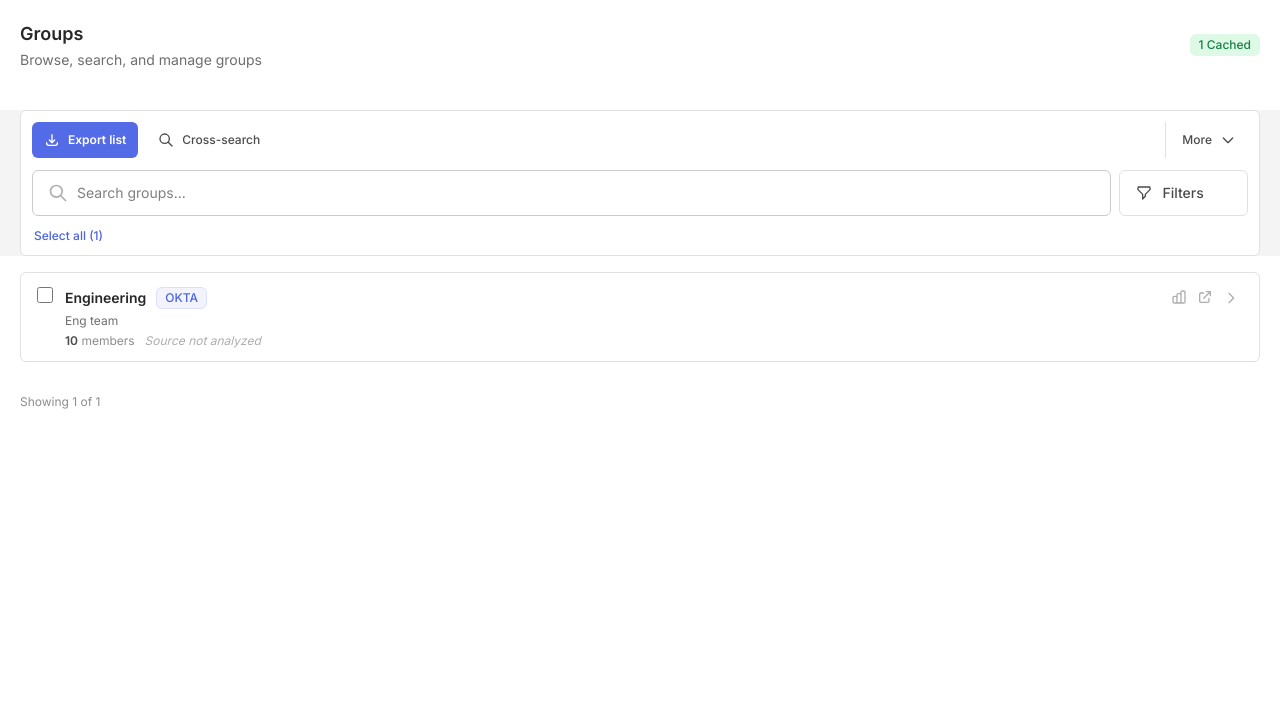
Test: GroupsTab sub-navigation › hides the list without unmounting it, so its state survives
What coordinates should you click on to do the following:
click the checkbox named "Select Engineering"
I would click on:
 (45, 295)
Its box is [37,287,53,303].
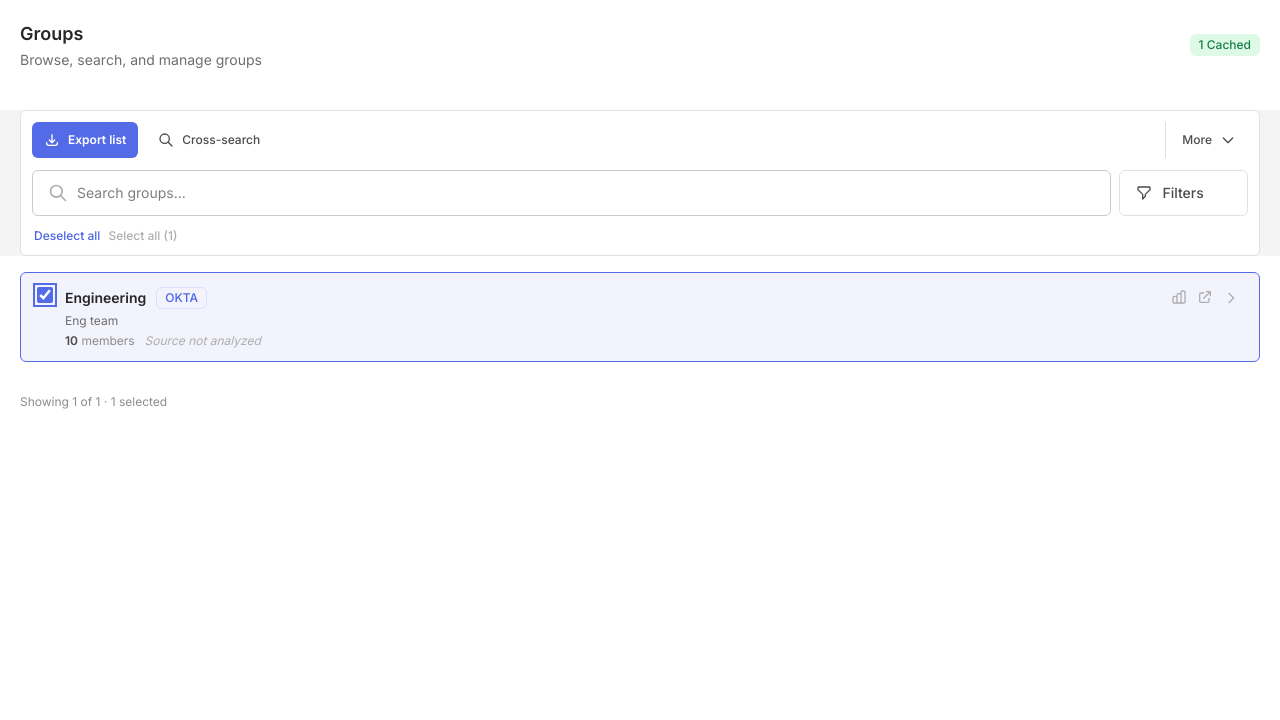
What coordinates should you click on to do the following:
click the button named "Expand Engineering"
I would click on:
 (1231, 298)
Its box is [1219,286,1243,310].
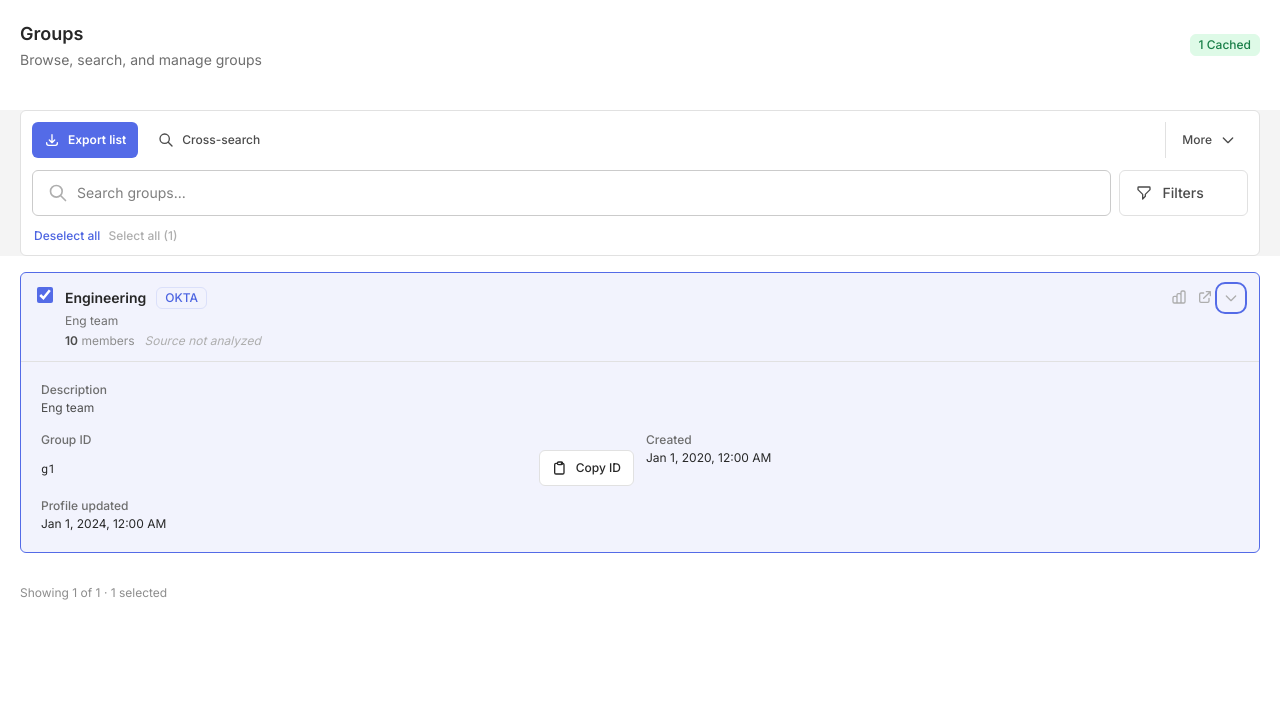
What coordinates should you click on to do the following:
click the button named "View group details"
I would click on:
 (640, 317)
Its box is [21,273,1259,361].
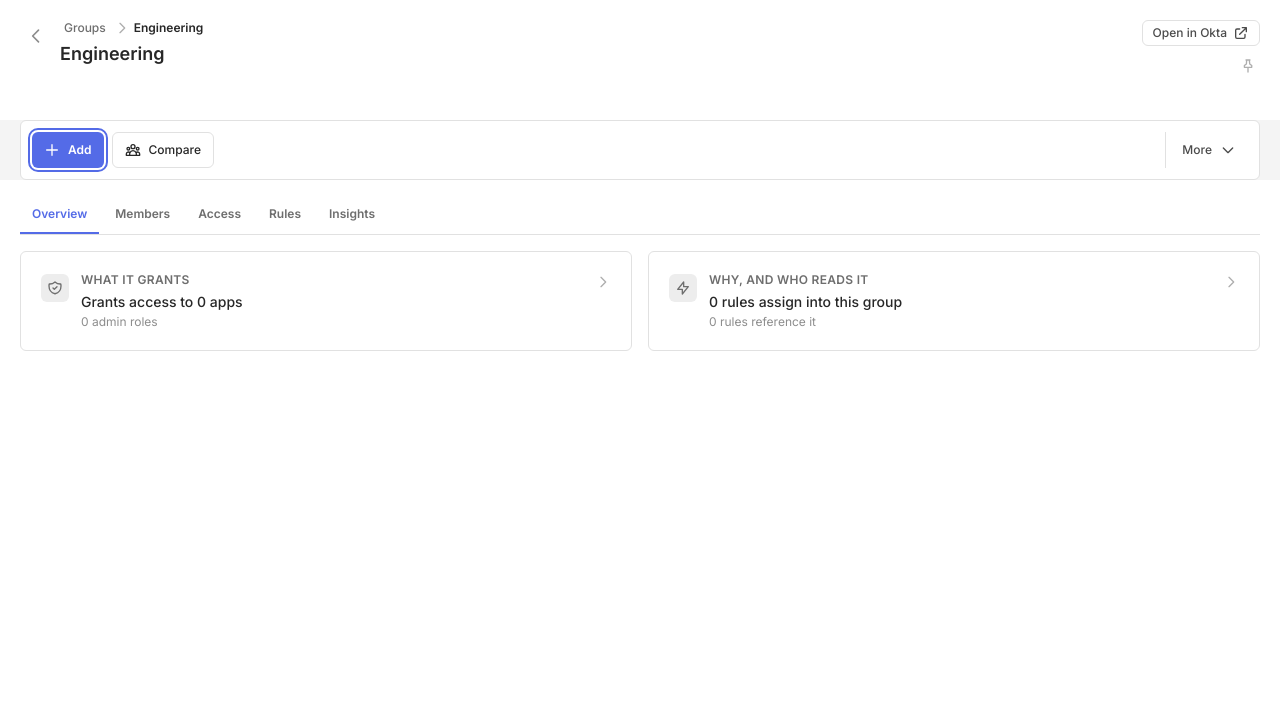
What coordinates should you click on to do the following:
click the button named "Back to groups"
I would click on:
 (36, 36)
Its box is [20,20,52,52].
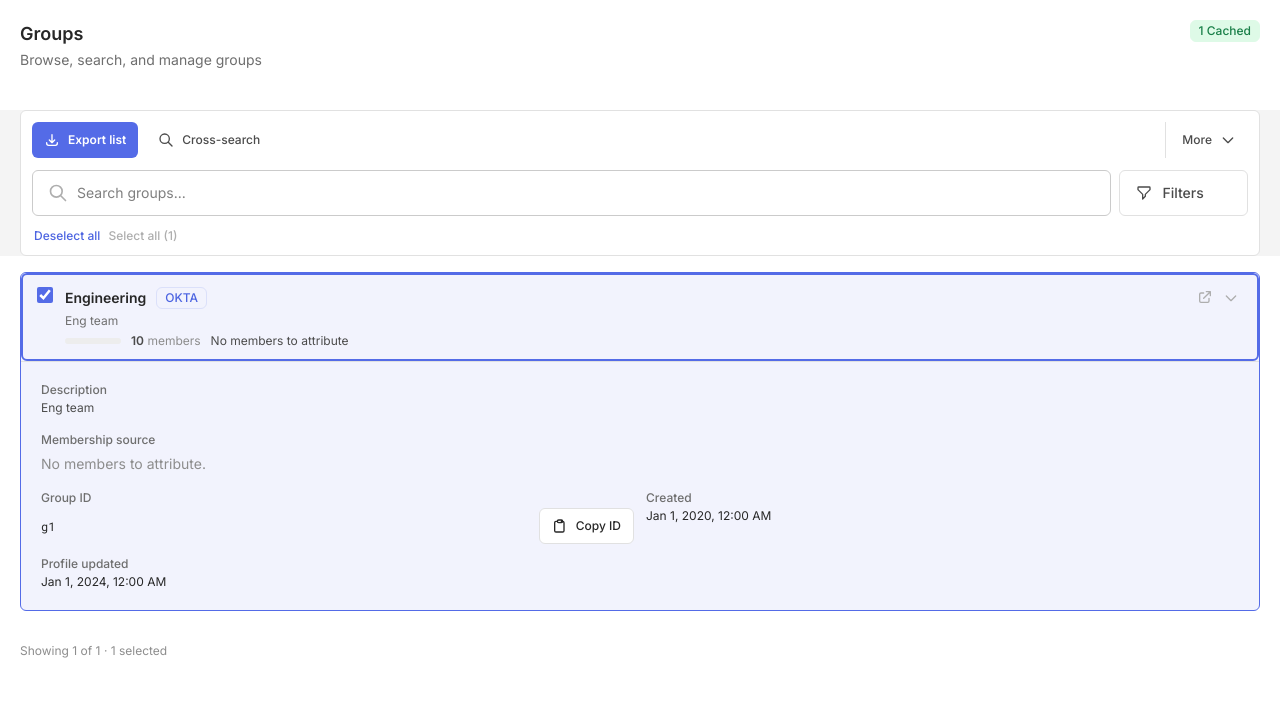
Expected: the checkbox named "Select Engineering" is checked, [37,287,53,303]
Expected: the button named "View group details" is shown, [21,273,1259,361]
